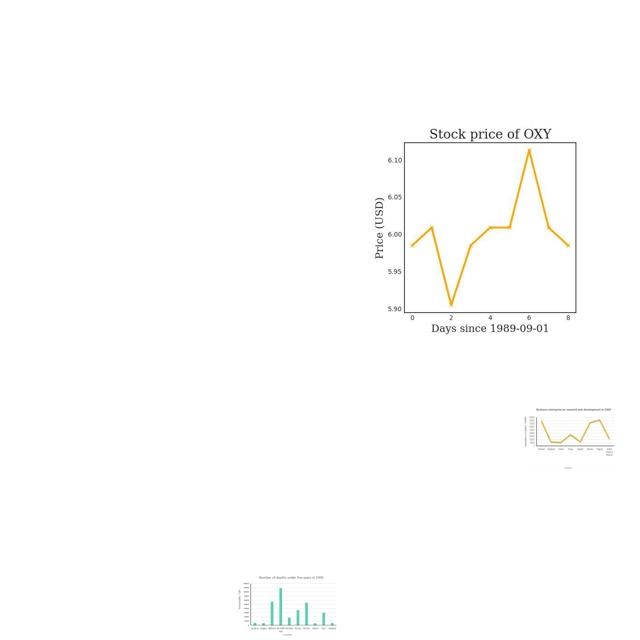Graph: (339, 116, 634, 337), (236, 574, 339, 639), (522, 404, 616, 470)
